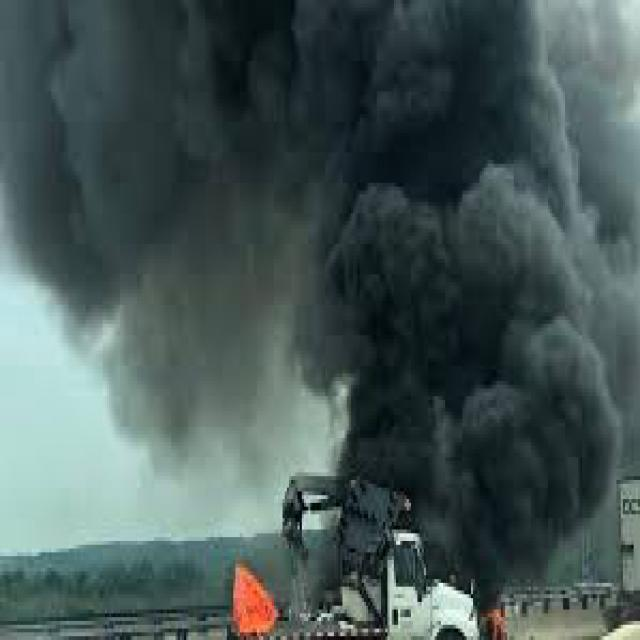smoke: (323, 4, 621, 583), (4, 4, 323, 461)
